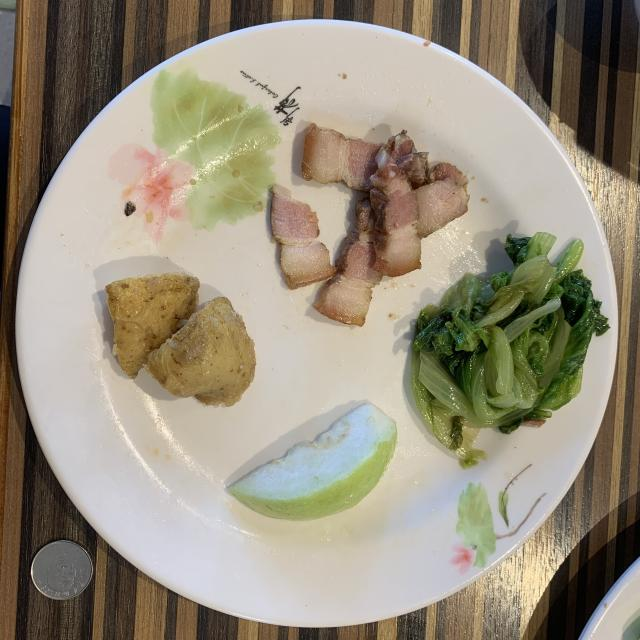coin: (31, 540, 92, 600)
fried potato: (105, 272, 255, 406)
grilled pork: (271, 124, 469, 325)
guava -sliced-: (229, 402, 398, 520)
mustard greens: (411, 232, 609, 468)
